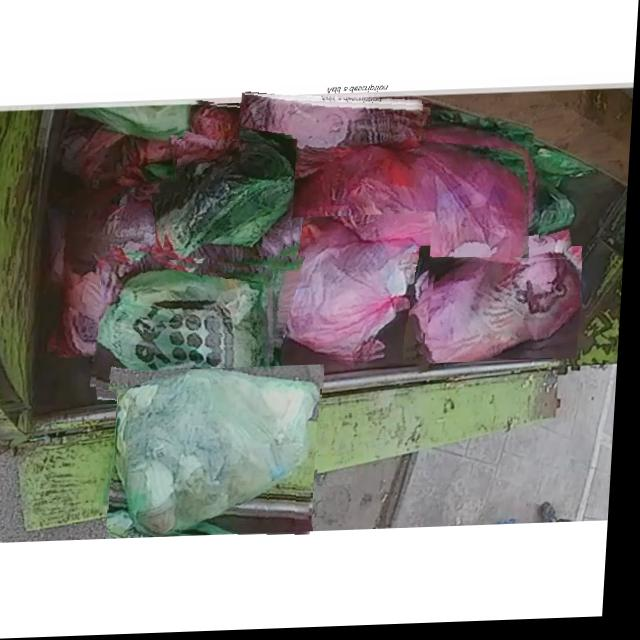general_trashbag: (123, 370, 326, 535), (103, 263, 278, 401), (170, 141, 297, 259)
other_trashbag: (294, 141, 534, 270), (279, 220, 433, 362), (62, 191, 186, 358), (418, 261, 585, 367), (243, 95, 426, 165), (62, 128, 181, 188), (192, 105, 241, 141)
